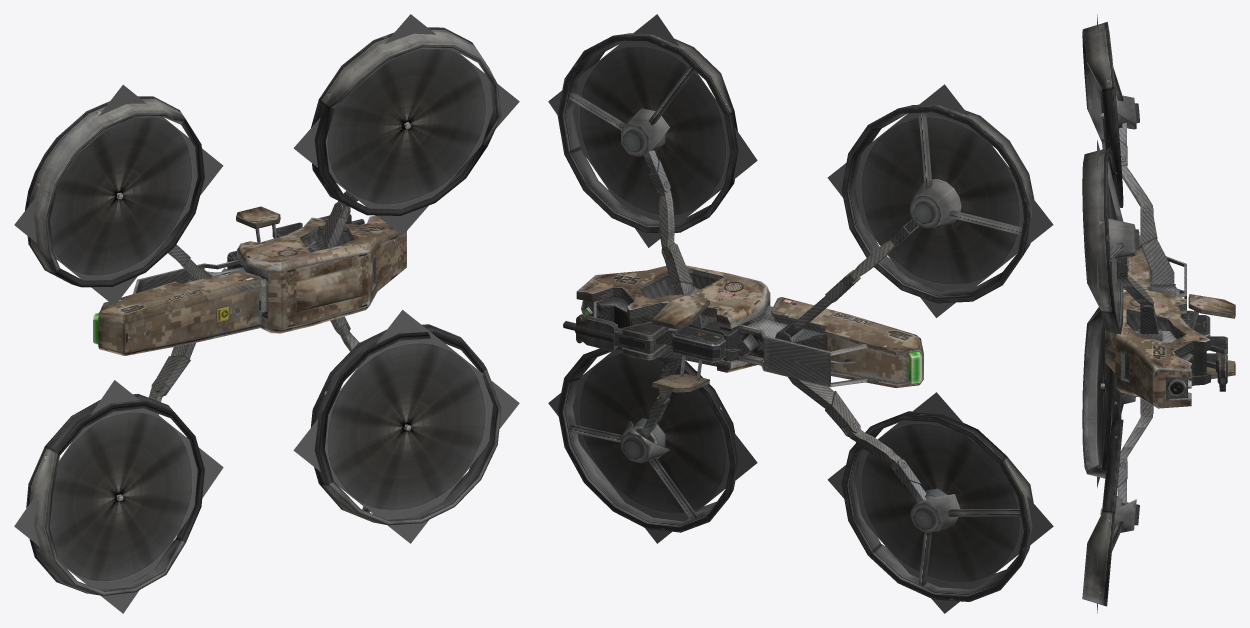
Rendered from veh_t6_drone_quad_rotor_mp_LOD2.obj.
The picture shows the model from 3 angles, left to right: view 1: azimuth 30°, elevation 25°; view 2: azimuth 150°, elevation 25°; view 3: azimuth 270°, elevation 25°; orthographic projection. The views are drawn at different scales.
Parts seen in each view (by area): view 1: mtl_t6_veh_drone_quad_rotor_blades, mtl_t6_veh_drone_quad_rotor_body; view 2: mtl_t6_veh_drone_quad_rotor_blades, mtl_t6_veh_drone_quad_rotor_body, mtl_t6_veh_drone_quad_rotor_gun; view 3: mtl_t6_veh_drone_quad_rotor_body, mtl_t6_veh_drone_quad_rotor_blades, mtl_t6_veh_drone_quad_rotor_gun.
Part boxes in pixels (x1,y1,x2,y2): mtl_t6_veh_drone_quad_rotor_blades: (14,14,519,613); mtl_t6_veh_drone_quad_rotor_body: (25,27,501,595); mtl_t6_veh_drone_quad_rotor_blades: (548,14,1053,613); mtl_t6_veh_drone_quad_rotor_body: (557,33,1034,601); mtl_t6_veh_drone_quad_rotor_gun: (563,314,739,363); mtl_t6_veh_drone_quad_rotor_body: (1082,22,1235,606); mtl_t6_veh_drone_quad_rotor_blades: (1097,14,1112,613); mtl_t6_veh_drone_quad_rotor_gun: (1181,310,1227,391).
Bounding box in the file's own units: 100 × 100 × 29.38.
